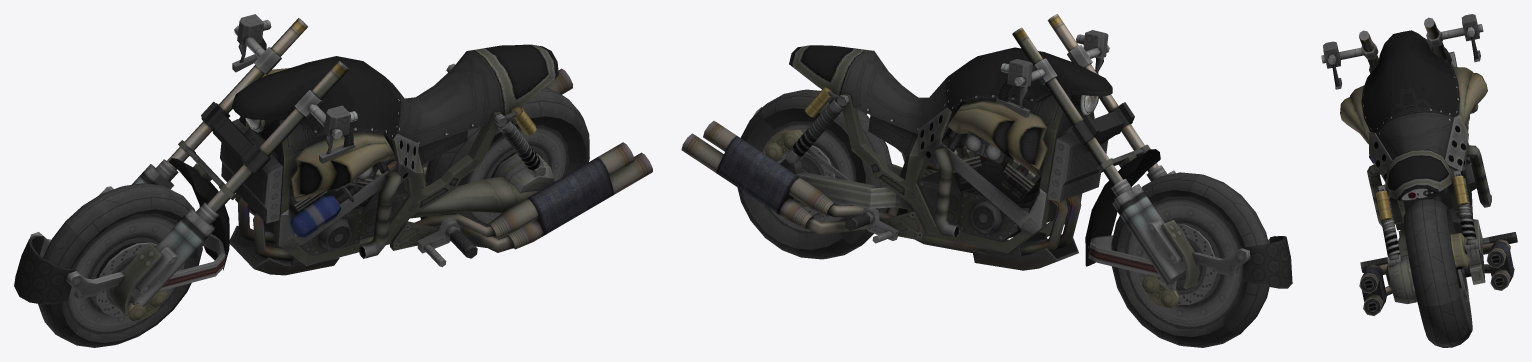
File: irl bike 1 no rig.fbx
3 renders of one model, left to right at view 1: azimuth 30°, elevation 25°; view 2: azimuth 150°, elevation 25°; view 3: azimuth 270°, elevation 25°, orthographic. The views are drawn at different scales.
Parts seen in each view (by area): view 1: body_core.001, front_tire.001, front_fork_under.001, front_fork.001, rear_tire.001, rear_swingarm.001; view 2: body_core.001, front_tire.001, front_fork_under.001, rear_tire.001, front_fork.001, rear_swingarm.001; view 3: body_core.001, rear_tire.001, rear_swingarm.001, front_fork.001.
Boxes of the visible parts, x1,y1,x2,y2 form: body_core.001: (220, 44, 652, 275); front_tire.001: (38, 183, 202, 347); front_fork_under.001: (14, 140, 236, 321); front_fork.001: (166, 14, 357, 212); rear_tire.001: (425, 87, 589, 247); rear_swingarm.001: (401, 153, 555, 218); body_core.001: (681, 45, 1112, 270); front_tire.001: (1111, 172, 1269, 347); front_fork_under.001: (1085, 144, 1292, 307); rear_tire.001: (737, 89, 892, 259); front_fork.001: (996, 14, 1158, 185); rear_swingarm.001: (765, 129, 923, 210); body_core.001: (1340, 30, 1517, 315); rear_tire.001: (1403, 199, 1472, 347); rear_swingarm.001: (1386, 208, 1485, 303); front_fork.001: (1321, 14, 1483, 89).
Bounding box in the file's own units: 562 × 257 × 192.
